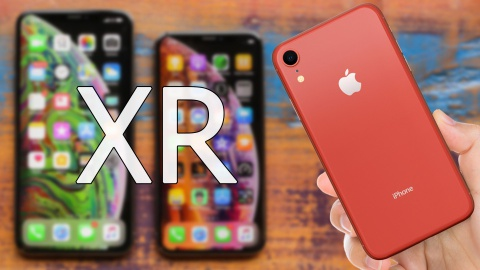apple: (326, 62, 368, 107)
